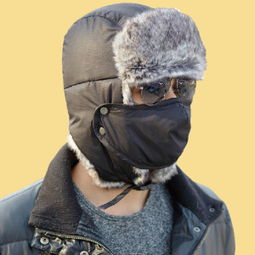yes_mask: (58, 3, 209, 187)
